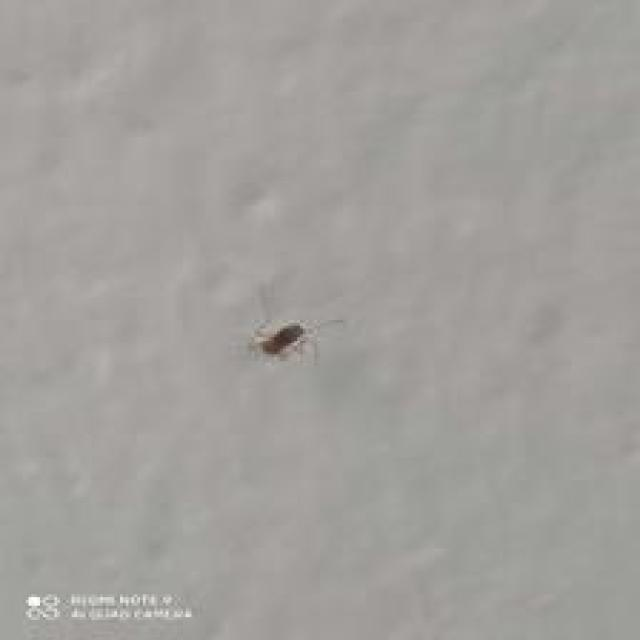Culex: (246, 314, 343, 363)
